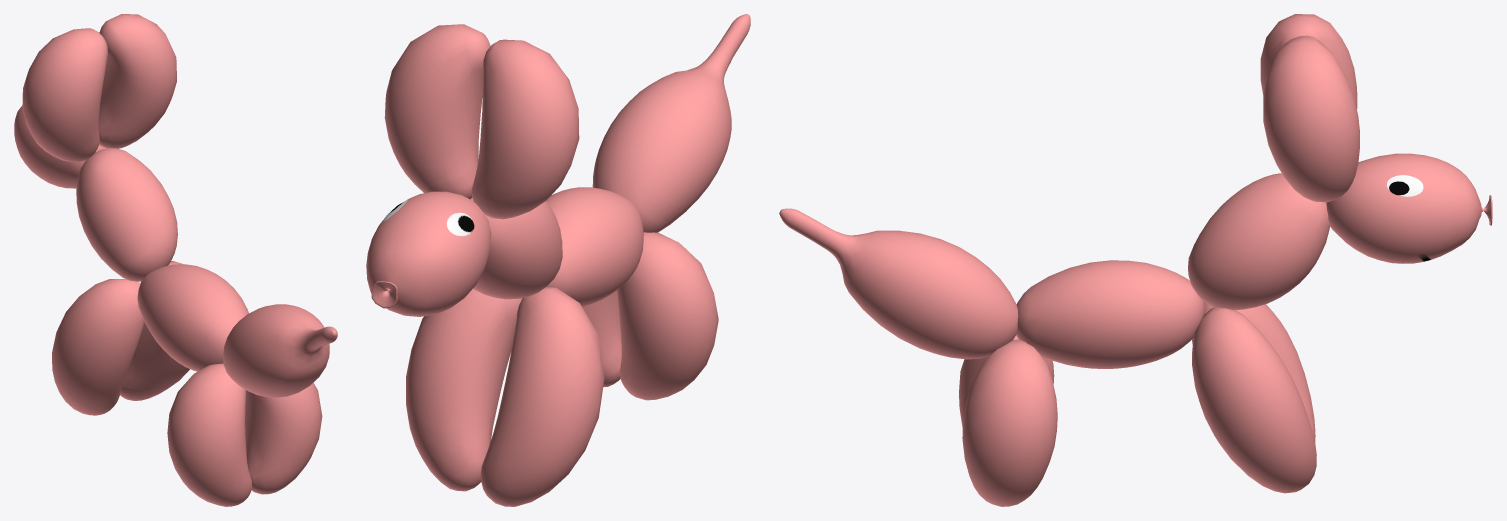
File: balloon_dog.dae
3 renders of one model, left to right at view 1: azimuth 30°, elevation 25°; view 2: azimuth 150°, elevation 25°; view 3: azimuth 270°, elevation 25°, orthographic. The views are drawn at different scales.
Visible parts, largest first — view 1: Component_2 (×6), Component_1 (×2), Component_5 (×2); view 2: Component_2 (×6), Component_5 (×3), Component_1 (×2); view 3: Component_2 (×6), Component_5 (×4), Component_1 (×2).
Part boxes in pixels (x1,y1,x2,y2): Component_2 (×6): [22, 14, 322, 506]; Component_1 (×2): [76, 148, 248, 371]; Component_5 (×2): [14, 106, 337, 397]; Component_2 (×6): [384, 24, 718, 506]; Component_5 (×3): [366, 14, 750, 315]; Component_1 (×2): [470, 187, 643, 306]; Component_2 (×6): [959, 14, 1359, 506]; Component_5 (×4): [779, 153, 1492, 359]; Component_1 (×2): [1016, 173, 1330, 368].
Bounding box in the file's own units: 3.24 × 10.46 × 7.4.
4 materials, 4 textured.
